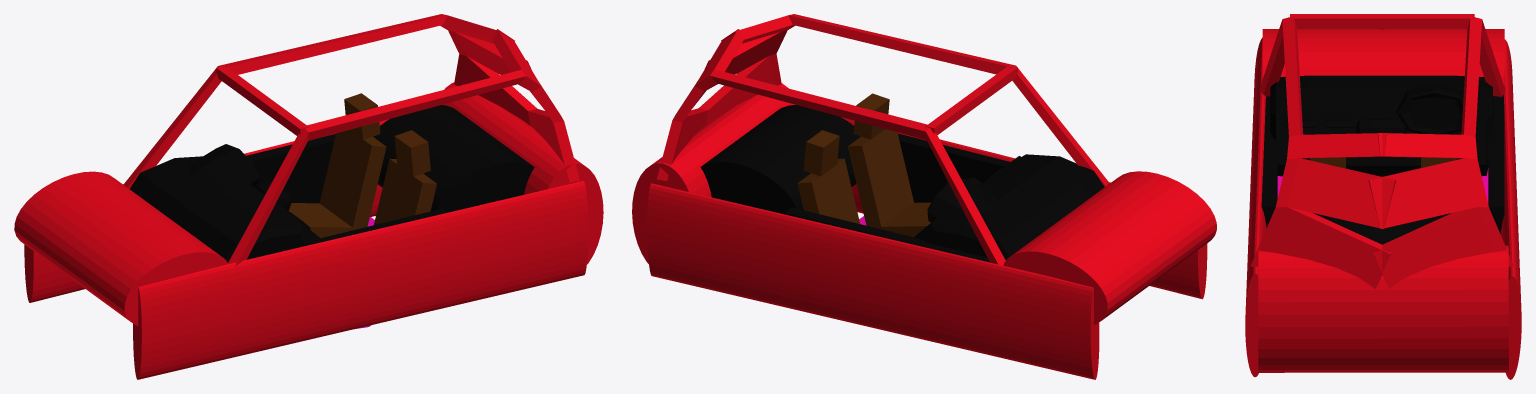
The model's file is Car_v2.fbx.
3 views of the same model, side by side, from view 1: azimuth 30°, elevation 25°; view 2: azimuth 150°, elevation 25°; view 3: azimuth 270°, elevation 25° (orthographic). The views are drawn at different scales.
Visible parts, largest first — view 1: Frame, Dashboard, Seats, Cylinder.002; view 2: Frame, Dashboard, Seats, Cylinder.002; view 3: Frame, Dashboard, Cylinder.002, Seats.
Boxes of the visible parts, bbox=[...] form: Frame: bbox=[14, 14, 603, 379]; Dashboard: bbox=[130, 105, 533, 262]; Seats: bbox=[288, 93, 436, 329]; Cylinder.002: bbox=[377, 105, 534, 209]; Frame: bbox=[632, 14, 1216, 379]; Dashboard: bbox=[701, 105, 1104, 262]; Seats: bbox=[797, 93, 930, 237]; Cylinder.002: bbox=[700, 105, 856, 214]; Frame: bbox=[1245, 14, 1521, 379]; Dashboard: bbox=[1261, 75, 1504, 244]; Cylinder.002: bbox=[1313, 213, 1448, 244]; Seats: bbox=[1277, 157, 1488, 203].
Size of the model in its own units: 1085 by 460 by 495.
